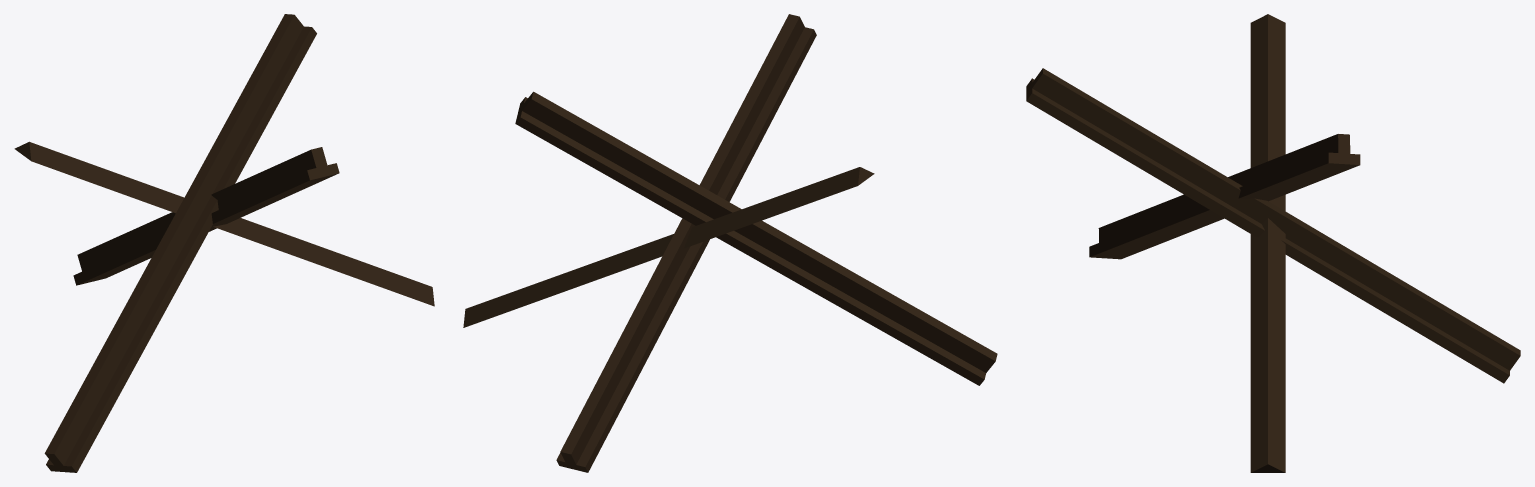
File: Obstakel1.fbx
3 renders of one model, left to right at view 1: azimuth 30°, elevation 25°; view 2: azimuth 150°, elevation 25°; view 3: azimuth 270°, elevation 25°, orthographic. The views are drawn at different scales.
Visible parts, largest first — view 1: pCube4; view 2: pCube4; view 3: pCube4.
Part boxes in pixels (x1,y1,x2,y2): pCube4: (14, 14, 434, 472); pCube4: (463, 14, 997, 472); pCube4: (1026, 14, 1520, 472).
Bounding box in the file's own units: 15.71 × 9.65 × 14.15.
